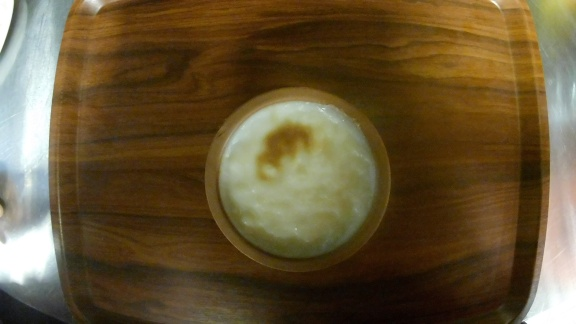sutlac: (203, 86, 392, 272)
